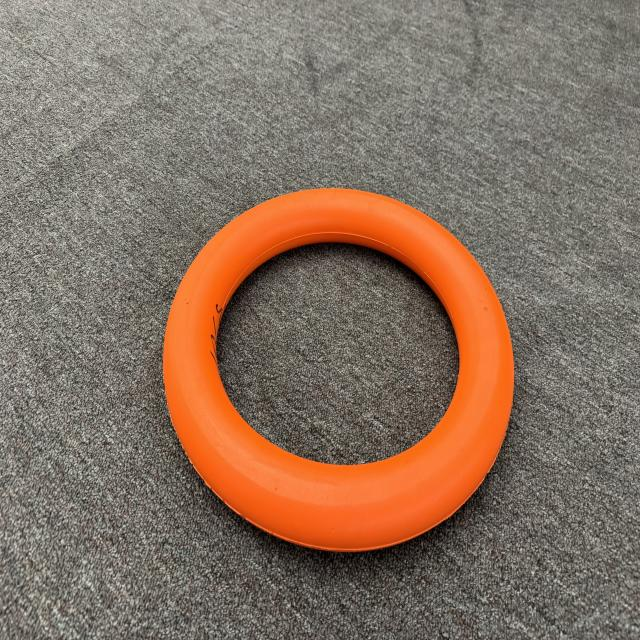note: (154, 181, 521, 566)
